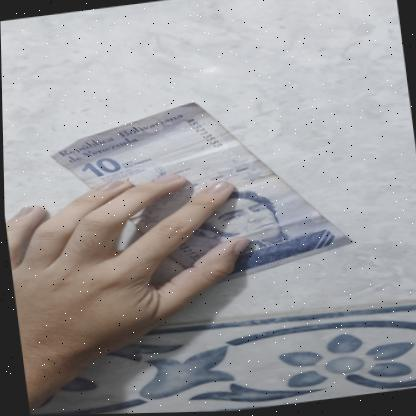ten-front-vef: (44, 84, 356, 307)
